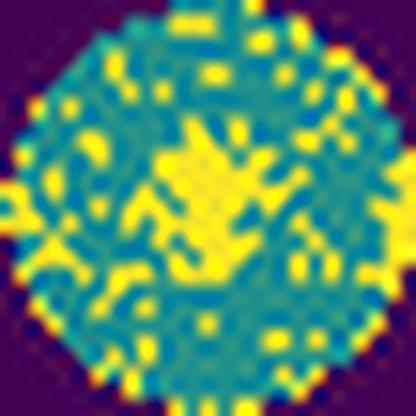Center: (122, 106, 319, 289)
